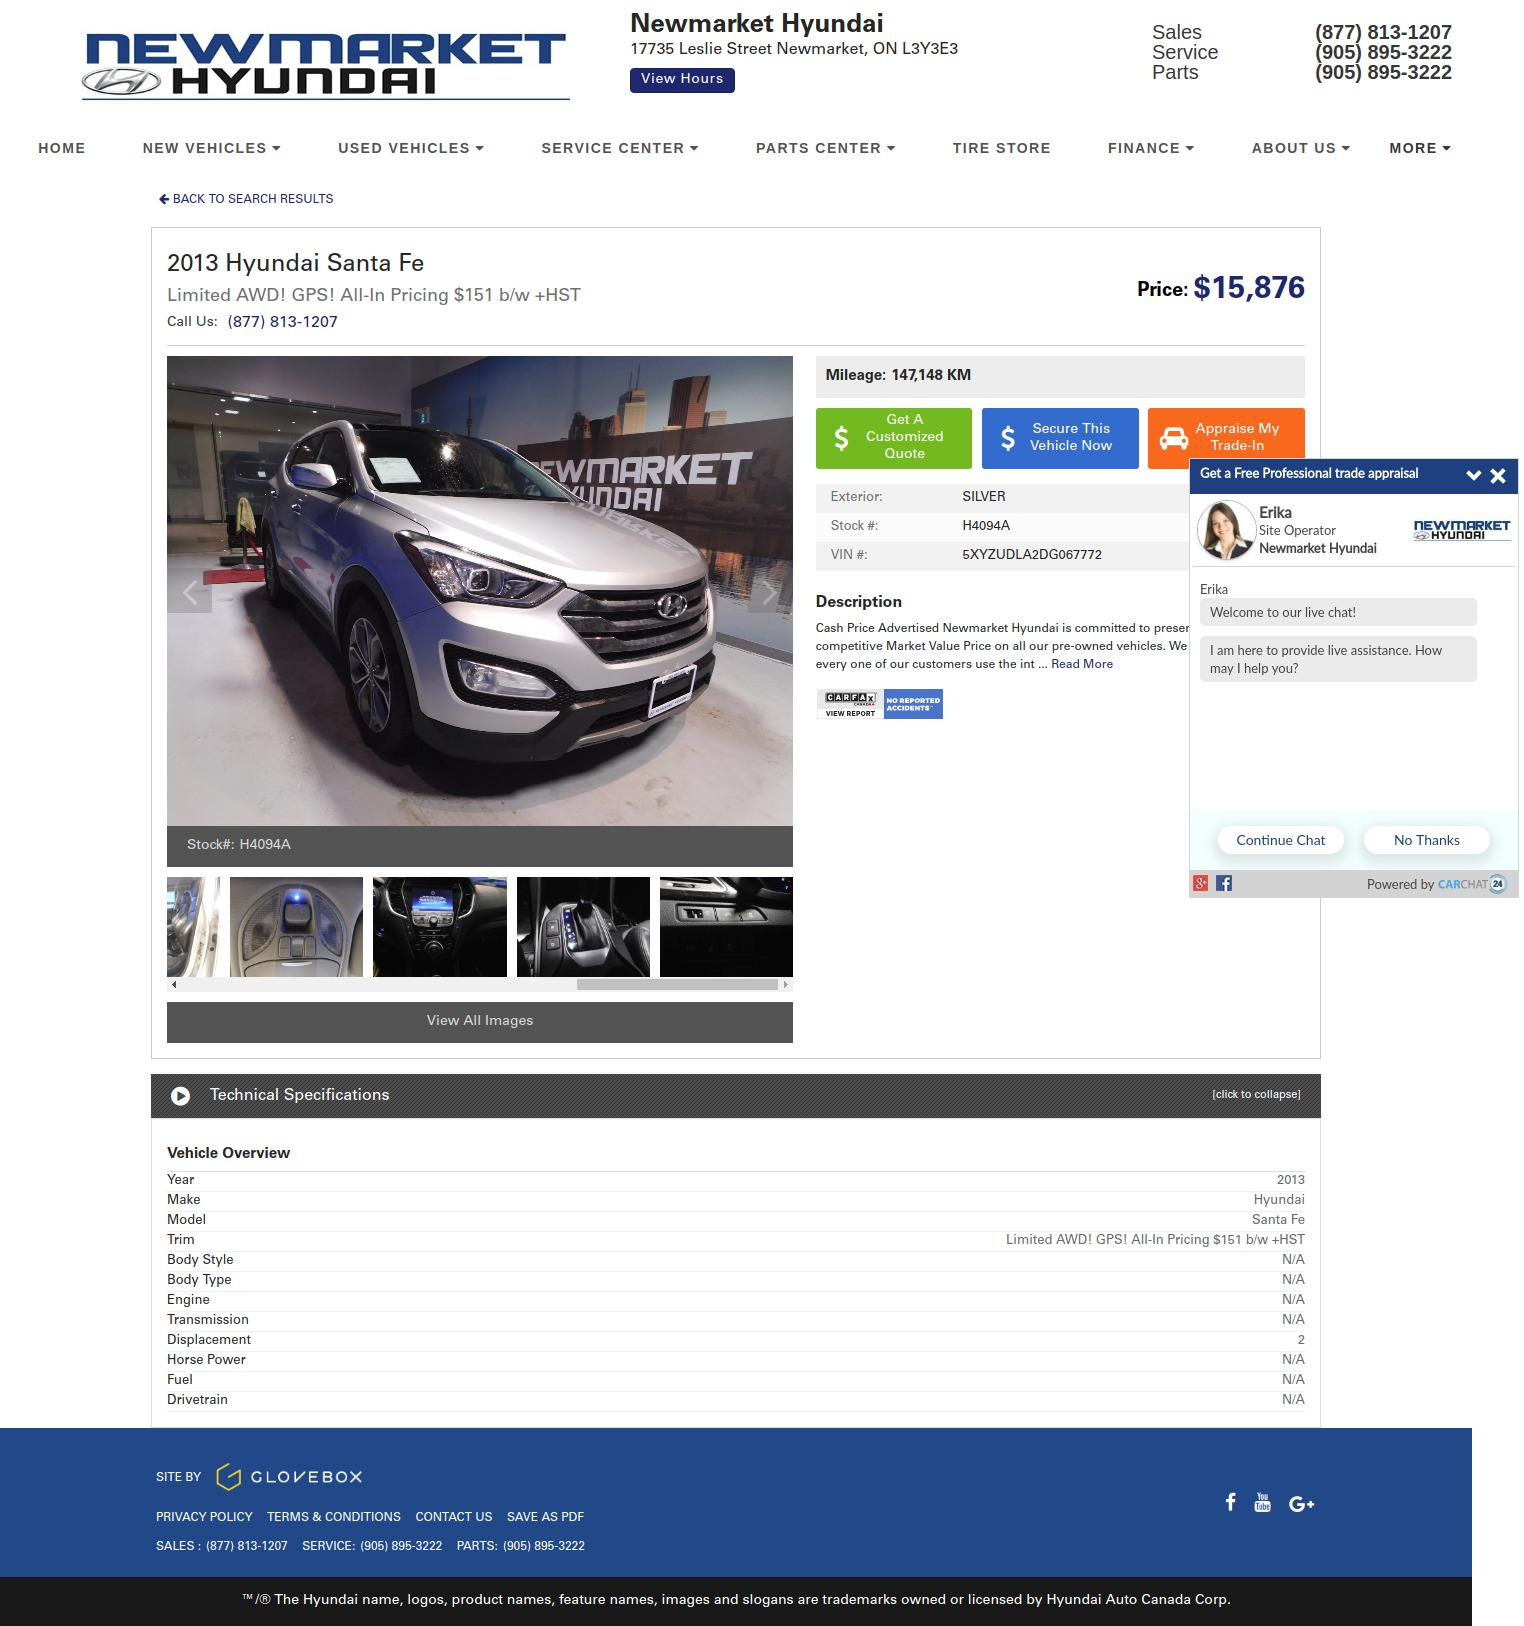car: (762, 582, 779, 607)
